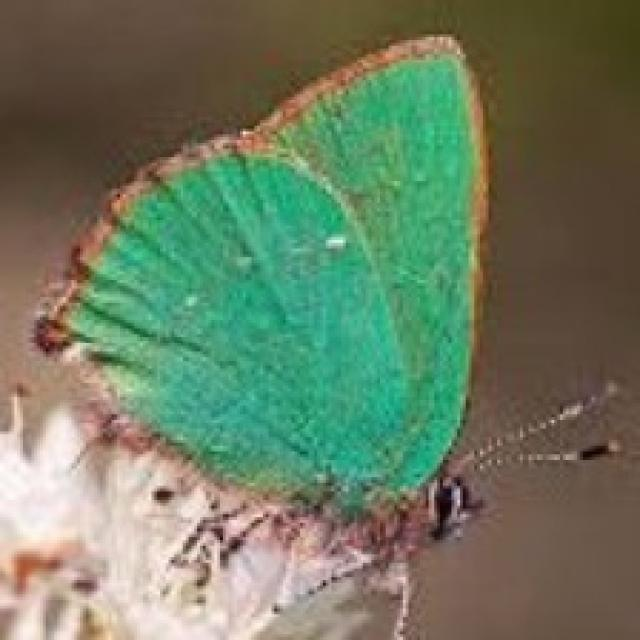butterfly: (6, 29, 637, 637)
